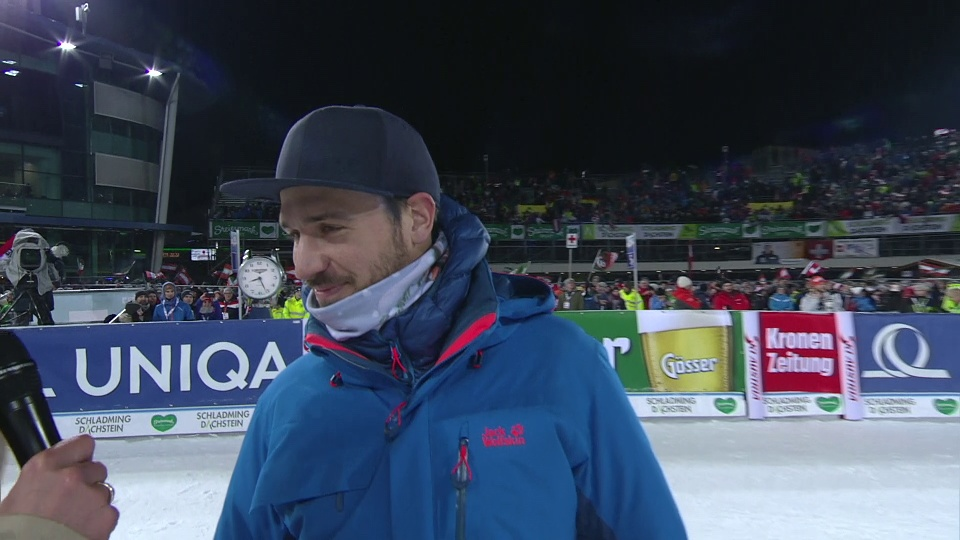goesser: (659, 343, 731, 383)
kronenzeitung: (762, 323, 838, 389)
schladming: (195, 407, 258, 432), (858, 396, 921, 421), (70, 411, 133, 436), (645, 392, 708, 417)
steiermark: (149, 414, 181, 435), (815, 396, 846, 415), (714, 396, 743, 416)
uniqa: (1, 321, 290, 397), (862, 320, 959, 381)
